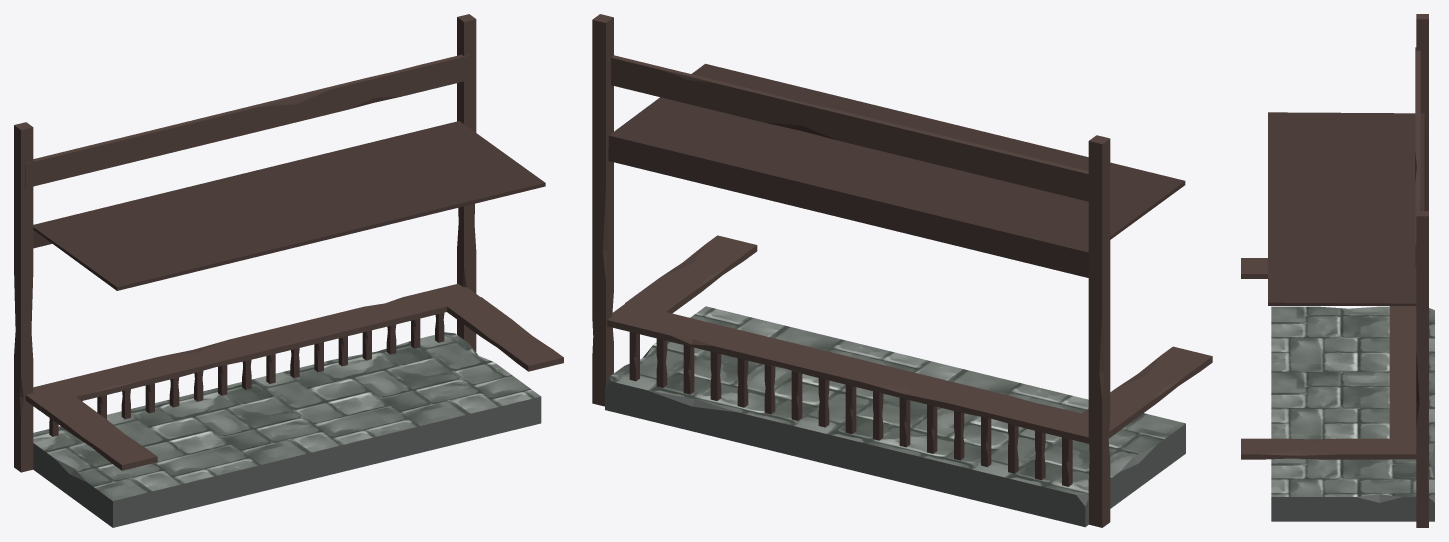
The model's file is SM_Env_Stall_15.fbx.
3 views of the same model, side by side, from view 1: azimuth 30°, elevation 25°; view 2: azimuth 150°, elevation 25°; view 3: azimuth 270°, elevation 25° (orthographic). The views are drawn at different scales.
Parts seen in each view (by area): view 1: SM_Env_Stall_15; view 2: SM_Env_Stall_15; view 3: SM_Env_Stall_15.
Part boxes in pixels (x1,y1,x2,y2): SM_Env_Stall_15: [14, 14, 563, 527]; SM_Env_Stall_15: [592, 14, 1212, 527]; SM_Env_Stall_15: [1241, 14, 1434, 527].
Bounding box in the file's own units: 418 × 300 × 169.
1 material, 1 textured.
